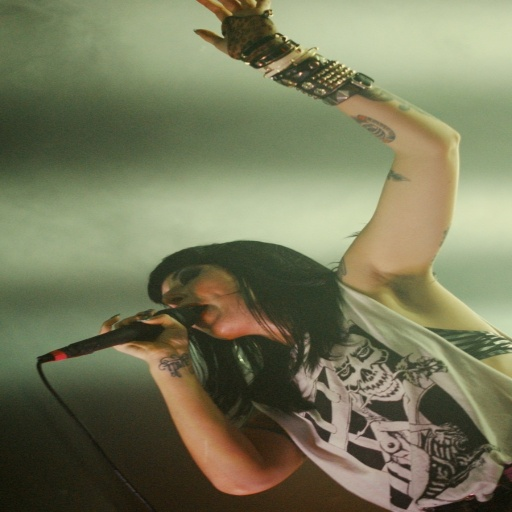hand: (53, 315, 203, 377), (190, 0, 282, 64)
